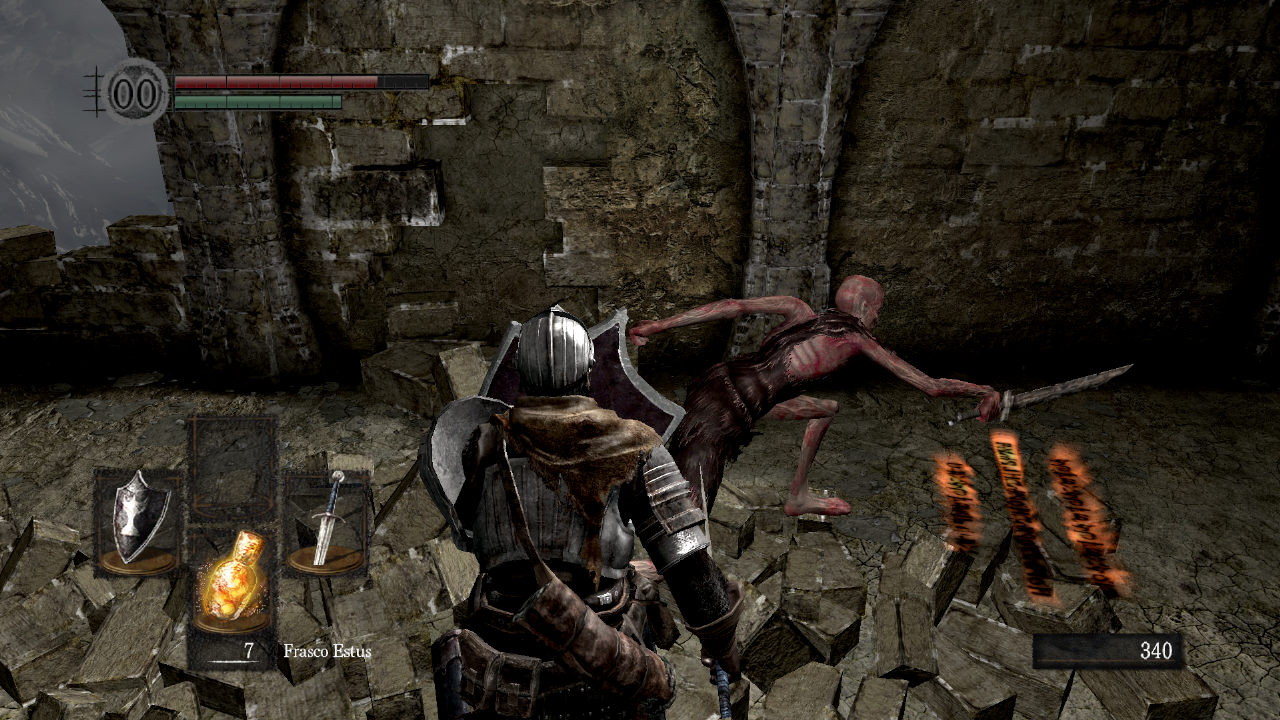hollow: (629, 272, 1000, 583)
player: (416, 301, 746, 720)
